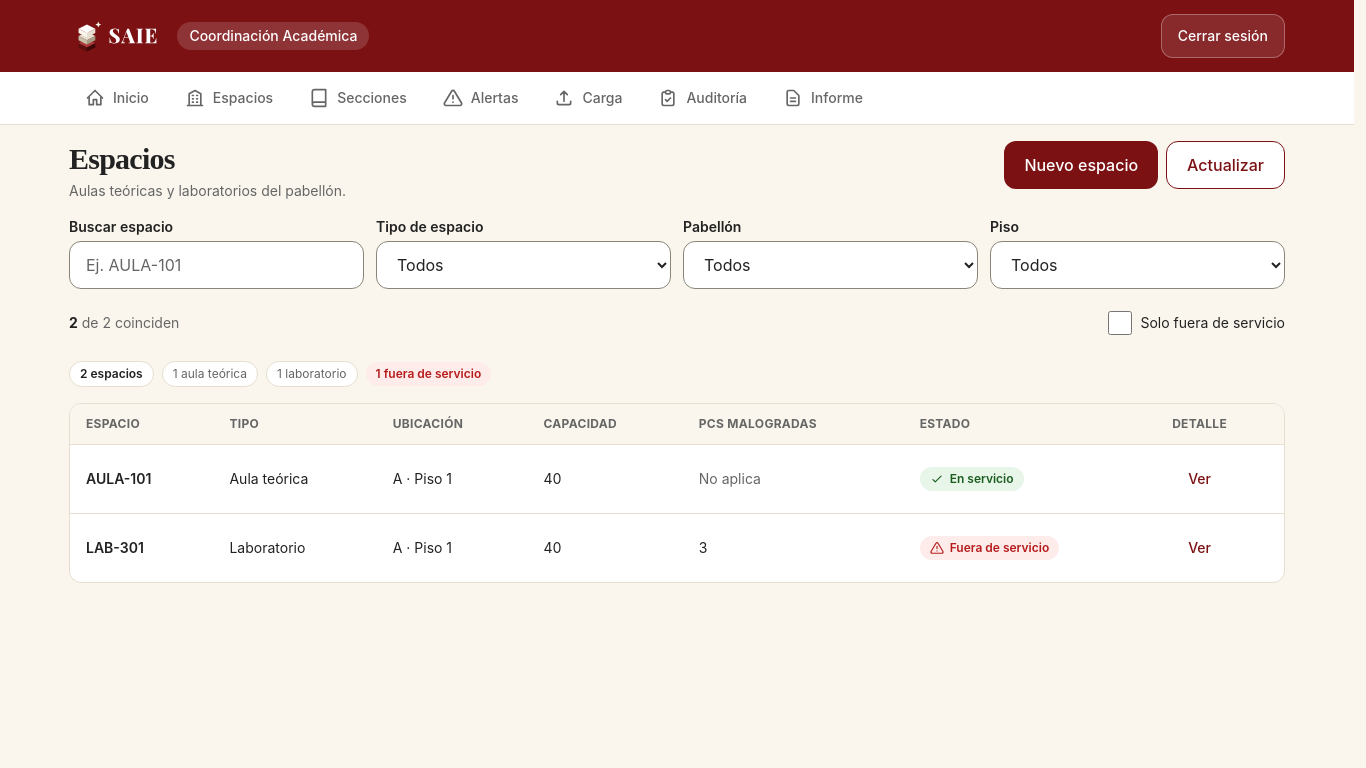
Gestión de espacios (Issue 4.15) › filtra por texto sin distinguir mayúsculas y muestra el estado vacío
Expected: the text "AULA-101" is shown, [70,444,213,514]
In the search field labelled "Buscar espacio": x=216, y=265 [69,241,364,289], type " lab"
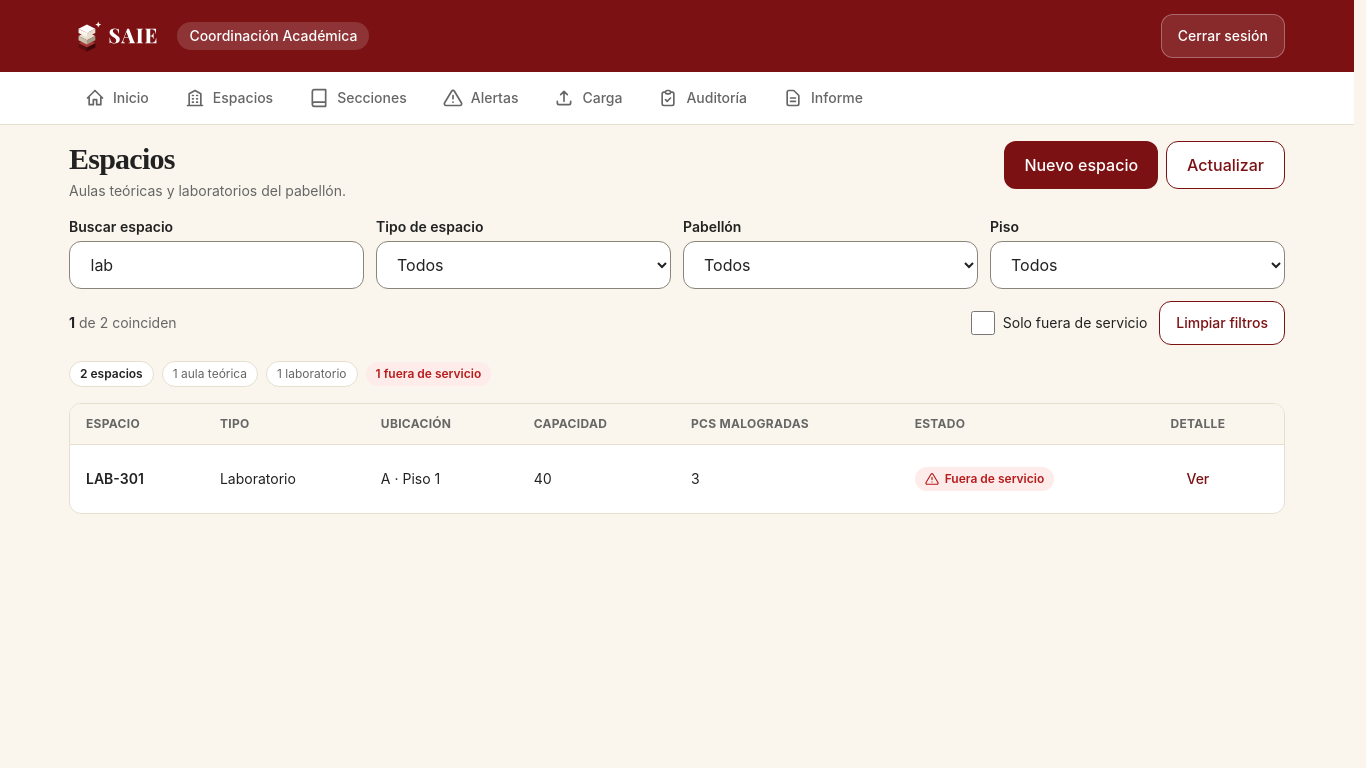
Expected: the text "LAB-301" is shown, [70,444,204,513]
Expected: the text "AULA-101" is gone
Replace the text in the search field labelled "Buscar espacio" with "zzz": x=216, y=265 [69,241,364,289]
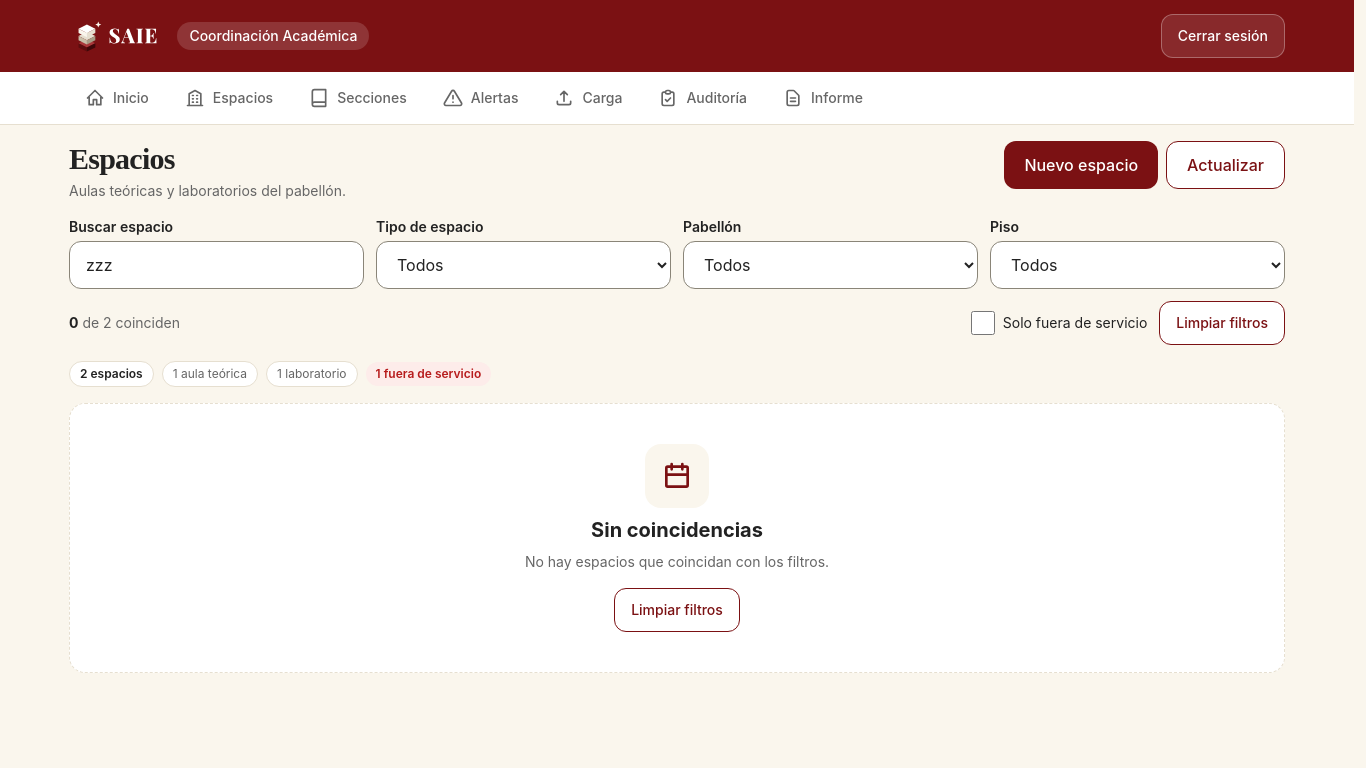
Expected: the heading "Sin coincidencias" is shown, [591,516,763,544]
